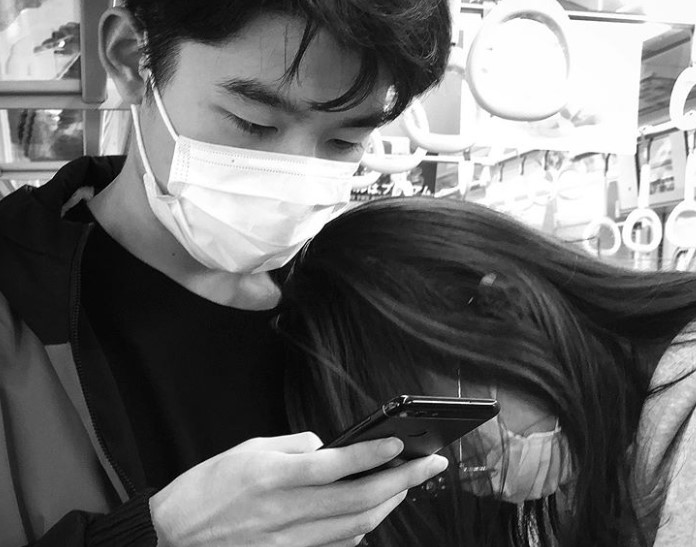face_with_mask: (294, 198, 619, 509), (91, 2, 399, 284)
